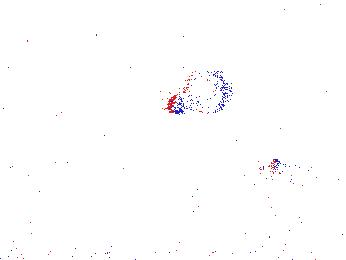flame jellyfish: (273, 172, 346, 230), (168, 66, 234, 116), (260, 157, 312, 202)
